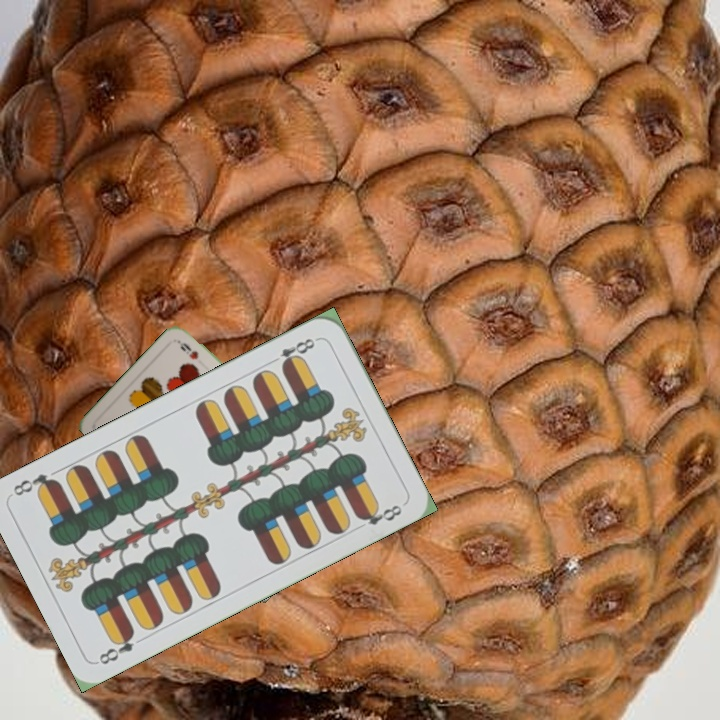E8: (266, 334, 321, 371), (94, 627, 137, 667)
